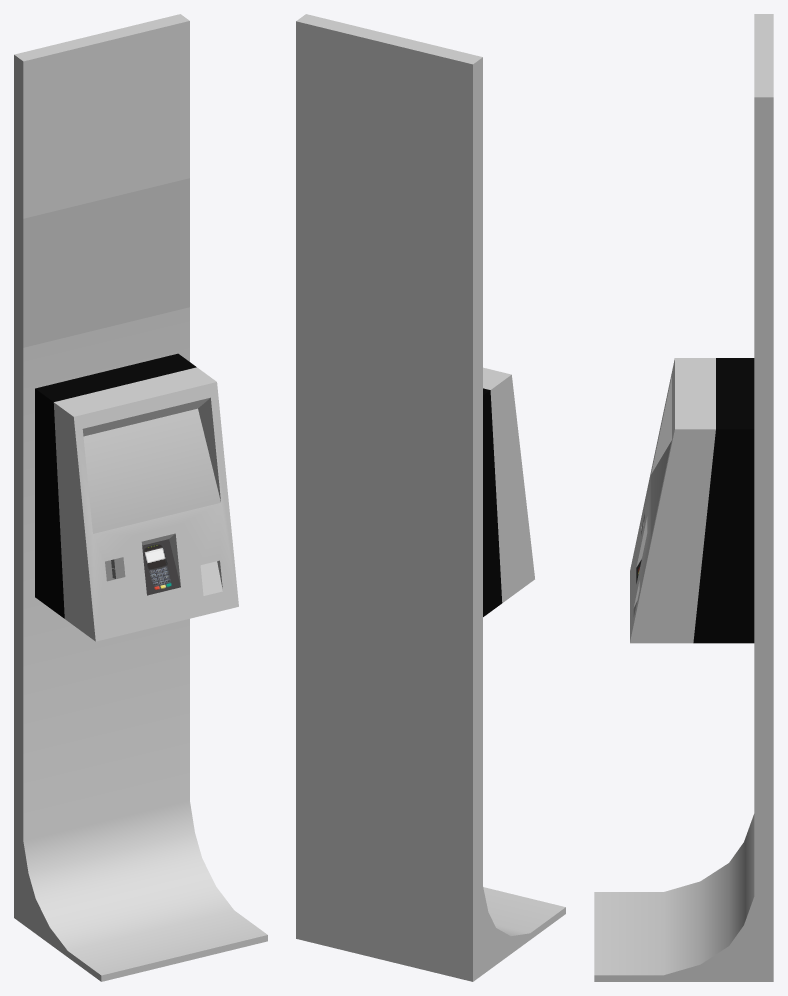
The model's file is order_terminal.FBX.
The picture shows the model from 3 angles, left to right: view 1: azimuth 30°, elevation 25°; view 2: azimuth 150°, elevation 25°; view 3: azimuth 270°, elevation 25°; orthographic projection. The views are drawn at different scales.
Parts seen in each view (by area): view 1: order_terminal; view 2: order_terminal; view 3: order_terminal.
Boxes of the visible parts, x1,y1,x2,y2 form: order_terminal: (14, 14, 267, 981); order_terminal: (296, 14, 565, 981); order_terminal: (594, 14, 773, 981).
Bounding box in the file's own units: 55.65 × 276 × 50.59.
